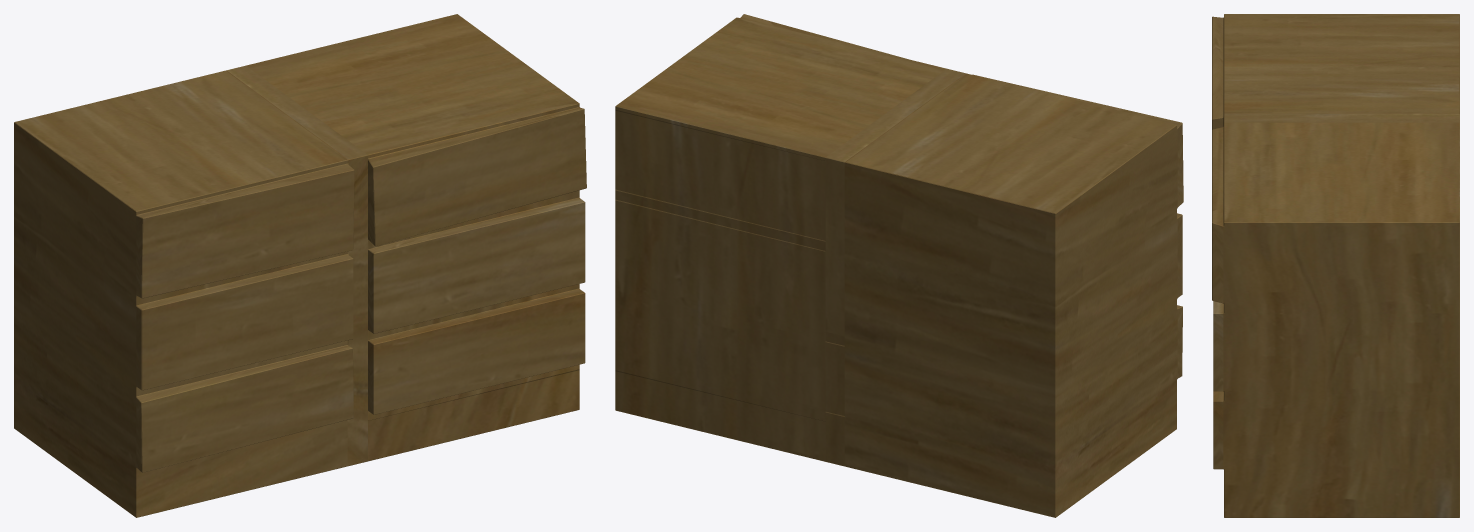
The model's file is cabinet2.fbx.
3 views of the same model, side by side, from view 1: azimuth 30°, elevation 25°; view 2: azimuth 150°, elevation 25°; view 3: azimuth 270°, elevation 25° (orthographic). The views are drawn at different scales.
Parts seen in each view (by area): view 1: Cabinet2; view 2: Cabinet2; view 3: Cabinet2.
Part boxes in pixels (x1,y1,x2,y2): Cabinet2: (14,14,586,517); Cabinet2: (615,14,1183,517); Cabinet2: (1212,14,1459,517).
Size of the model in its own units: 461 by 303 by 230.
